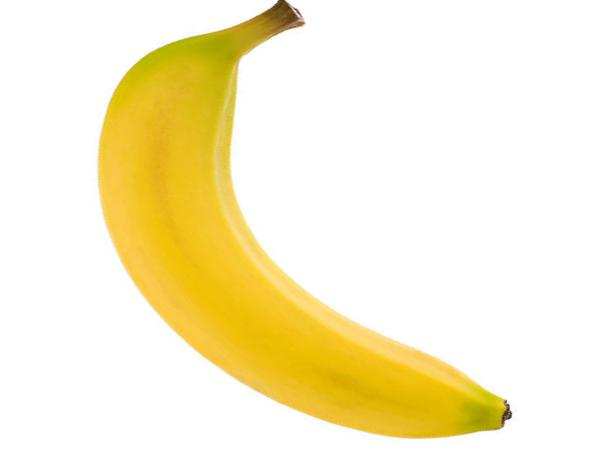banana: (96, 1, 513, 439)
